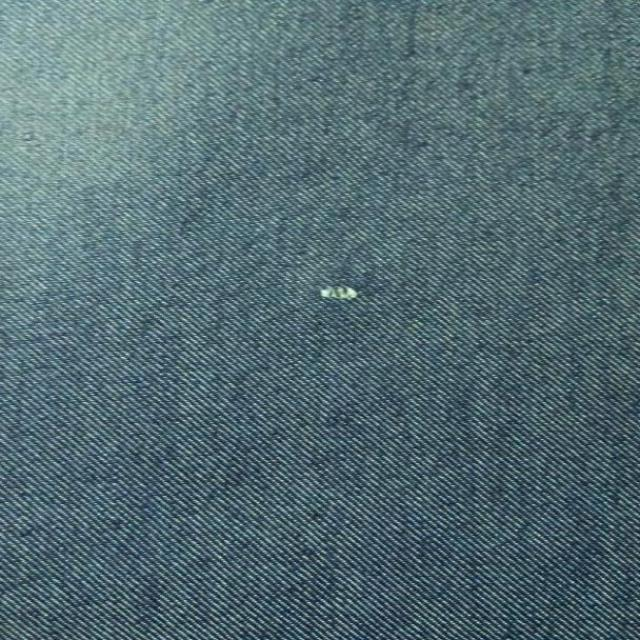Knot: (321, 287, 358, 299)
